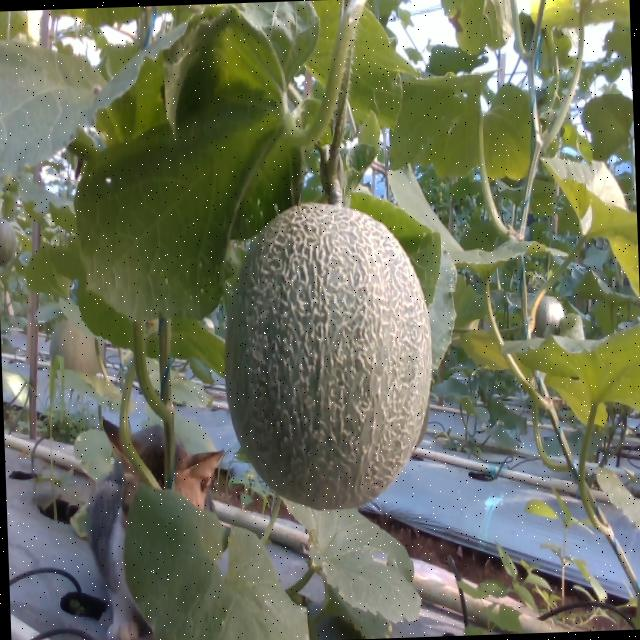melon: (226, 205, 432, 510)
